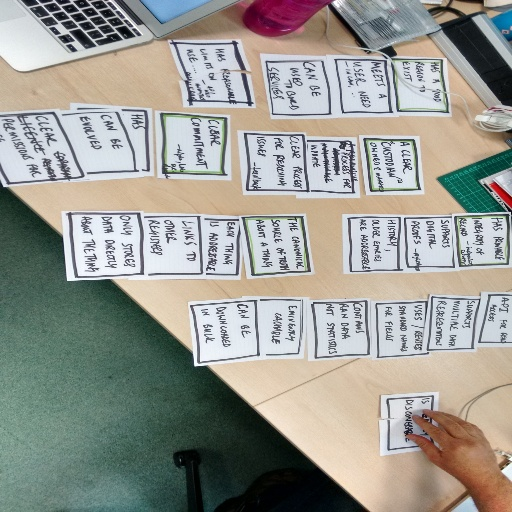hand: (397, 407, 501, 478)
